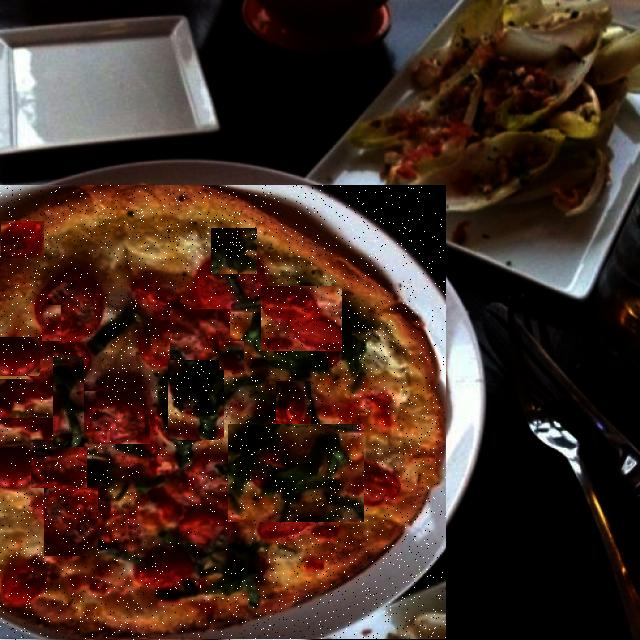Basil: (228, 424, 364, 522), (168, 360, 224, 440), (53, 357, 84, 447), (56, 309, 105, 361), (211, 228, 257, 274), (113, 321, 172, 355), (92, 474, 136, 515), (74, 260, 130, 286), (220, 341, 246, 370)
Pizza: (0, 185, 446, 640)
Tomato: (262, 286, 344, 351), (140, 458, 188, 541), (44, 488, 98, 556), (84, 392, 150, 446), (170, 309, 230, 364), (199, 515, 262, 567), (31, 440, 87, 488), (0, 379, 55, 418), (143, 236, 195, 274), (276, 381, 311, 432), (1, 222, 44, 260), (352, 324, 392, 363), (0, 337, 40, 376), (195, 278, 228, 308), (42, 305, 61, 341)
